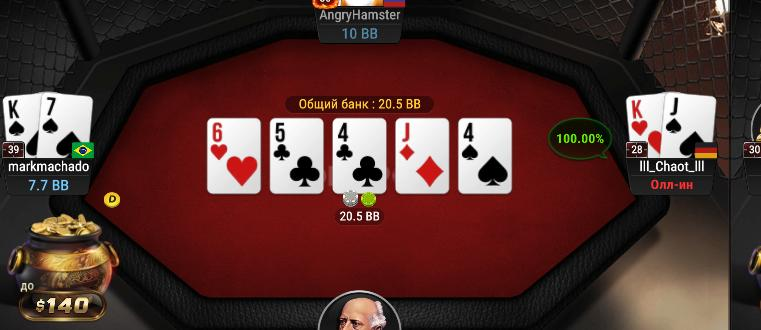4c: (333, 118, 387, 194)
4s: (458, 118, 512, 193)
5c: (270, 119, 322, 193)
6h: (208, 118, 260, 193)
7s: (41, 92, 91, 159)
Jd: (396, 119, 449, 193)
Js: (663, 93, 716, 156)
Kh: (627, 97, 663, 158)
Ks: (4, 96, 40, 157)
